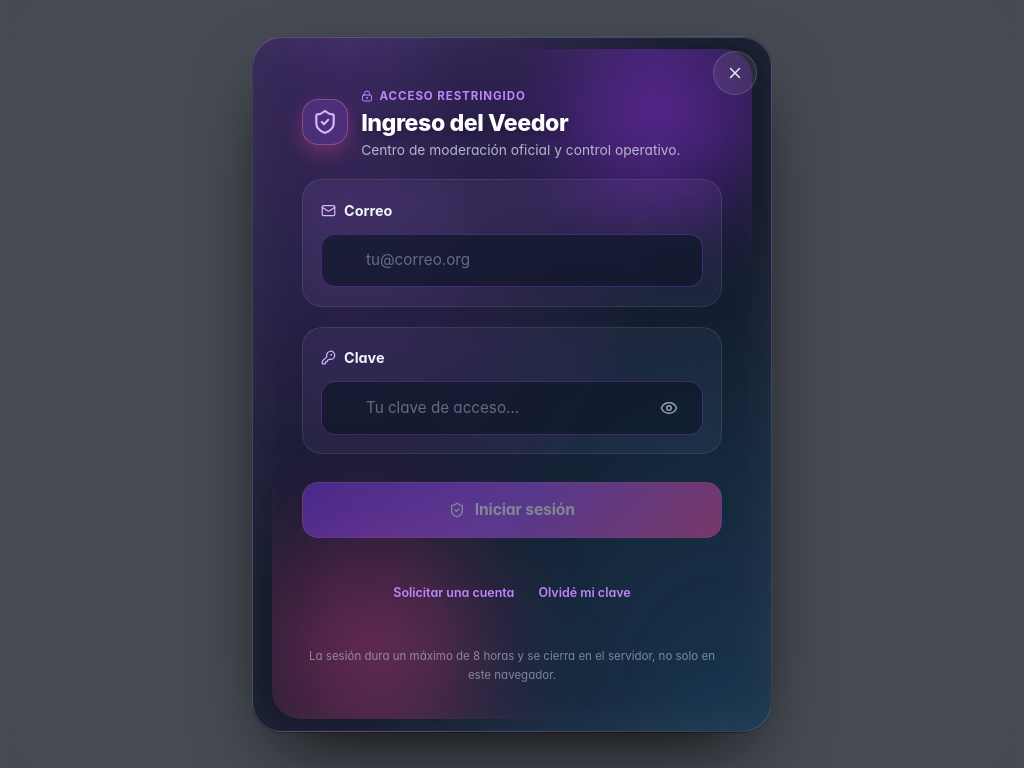
SeccionVeedor — ingreso emergente › vuelve al ingreso desde cualquiera de las dos vistas
Click the button "Olvidé mi clave" at (584, 593), box [534,571,635,615]
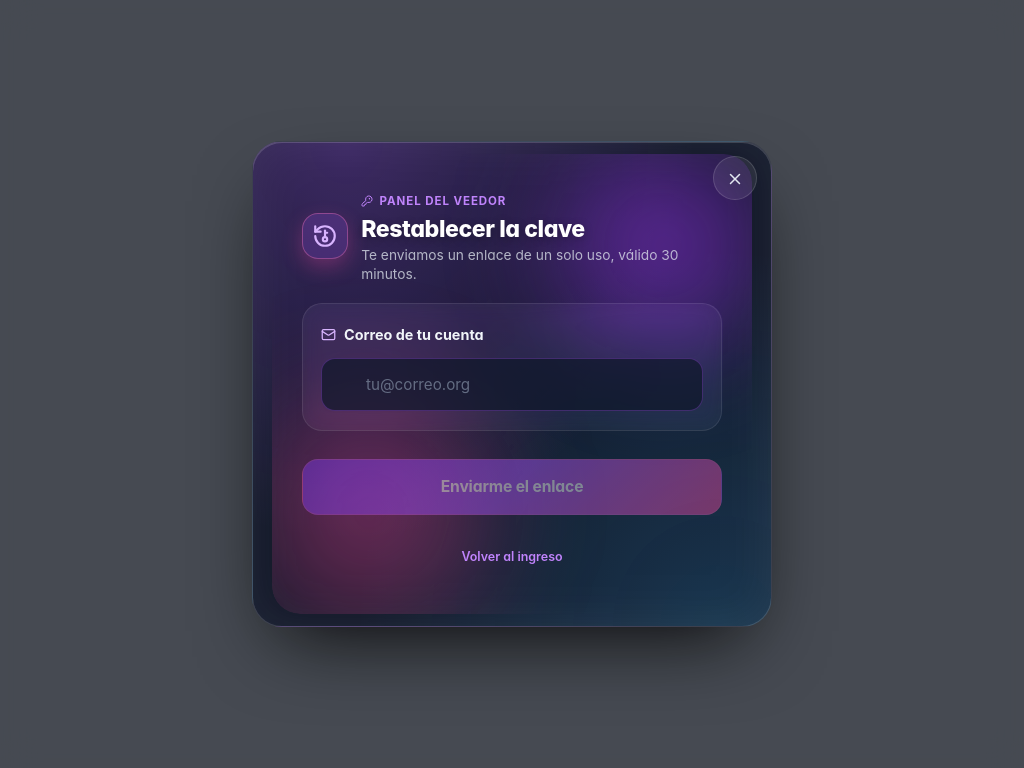
Click the button "Volver al ingreso" at (512, 557), box [457,535,567,579]
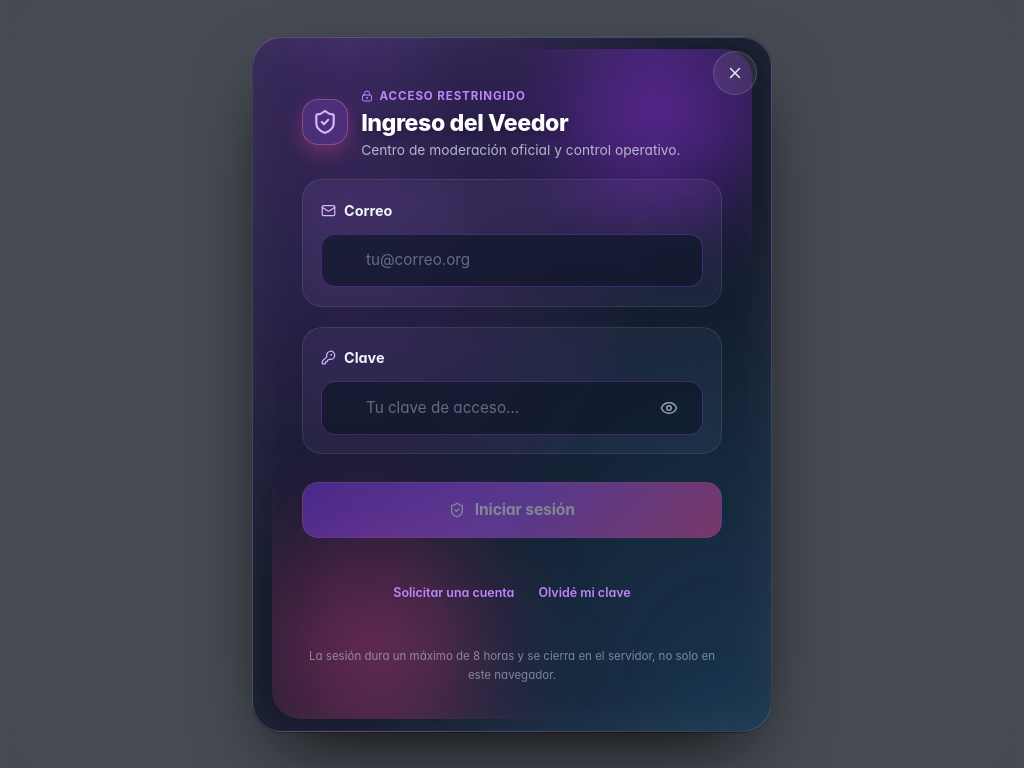
Result: the heading "Ingreso del Veedor" is shown at [361,109,568,137]
Result: the password field labelled "Clave" is shown at [321,381,703,435]
